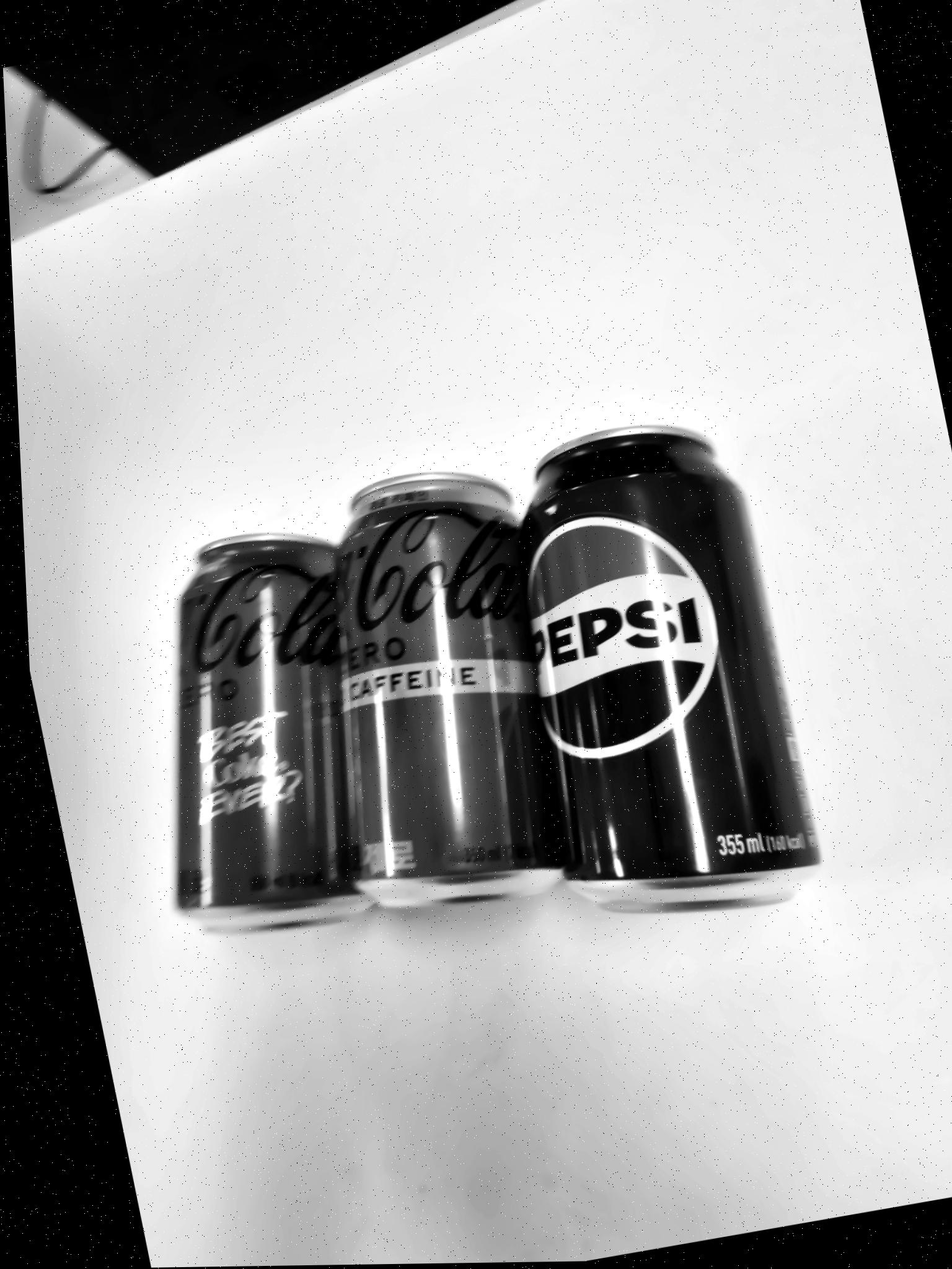can_coke_decaf: (334, 473, 570, 914)
can_coke_zero: (178, 534, 374, 928)
can_pepsi: (522, 418, 821, 927)
